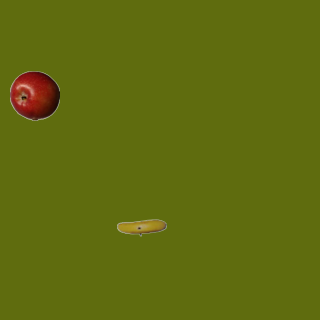Apple Braeburn: (9, 70, 59, 120)
Banana: (116, 202, 166, 252)
